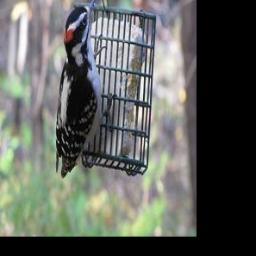Woodpecker: (55, 0, 116, 179)
